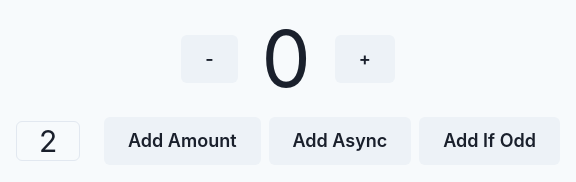
Counter Container › Increments sync
Click the button named "Increment value" at x=365, y=58, box x1=335 y1=34 x2=395 y2=82
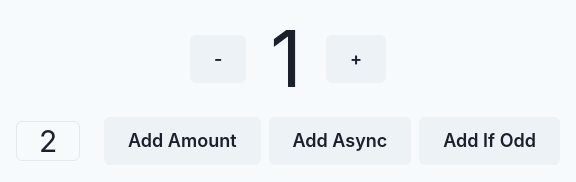
Click the button "Add If Odd" at x=490, y=141, box x1=419 y1=117 x2=560 y2=165
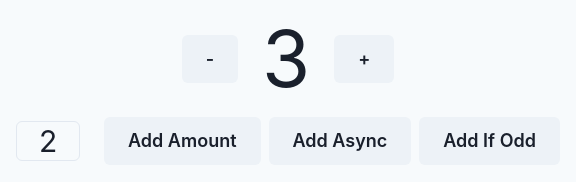
Click the button named "Decrement value" at x=210, y=58, box x1=182 y1=34 x2=238 y2=82
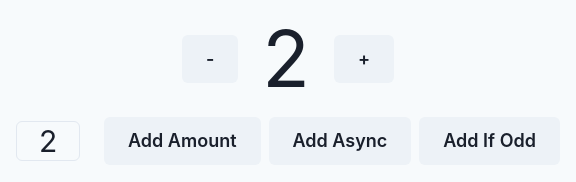
Replace the text in the number field named "Set increment amount" with "5" at x=48, y=141, box x1=16 y1=121 x2=80 y2=161
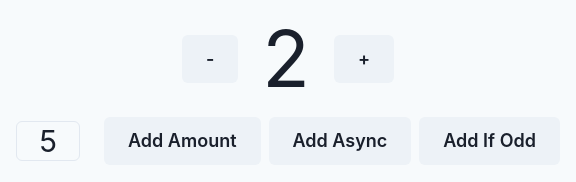
Click the button "Add Amount" at x=182, y=141, box x1=104 y1=117 x2=260 y2=165
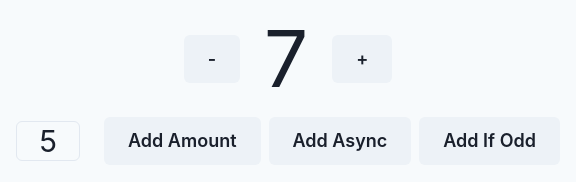
Now the text "7" is shown, box x1=264 y1=11 x2=308 y2=106
